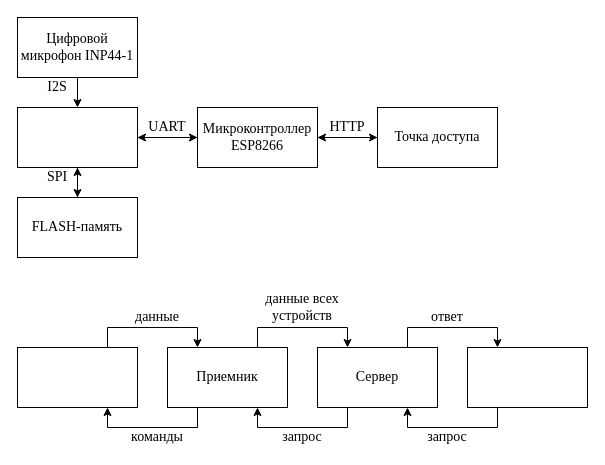
Image size: 605x465. Some labels were removed from this diagram. The shapes that lost their labels are listed below. From the top down, each one's box as (x1, y1, x2, y2) in pixels, then its label:
(16, 106, 138, 168): Микроконтроллер STM-32
(16, 346, 138, 408): Устройство
(466, 346, 588, 408): Клиент
